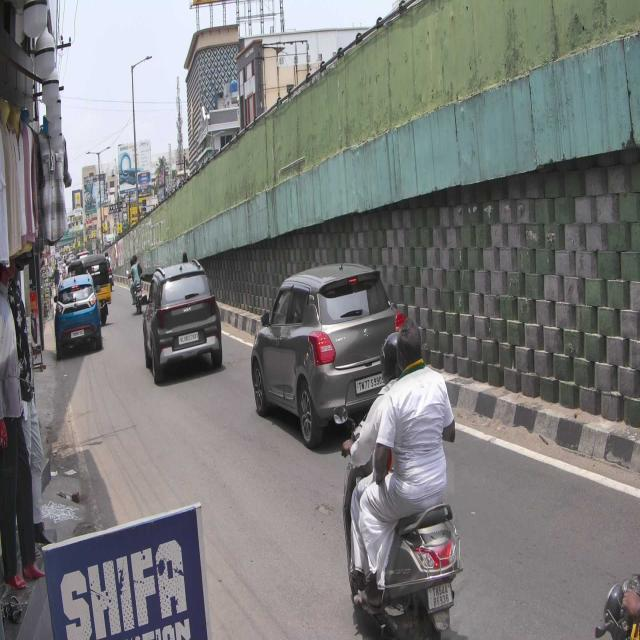double_rider: (340, 313, 462, 640)
